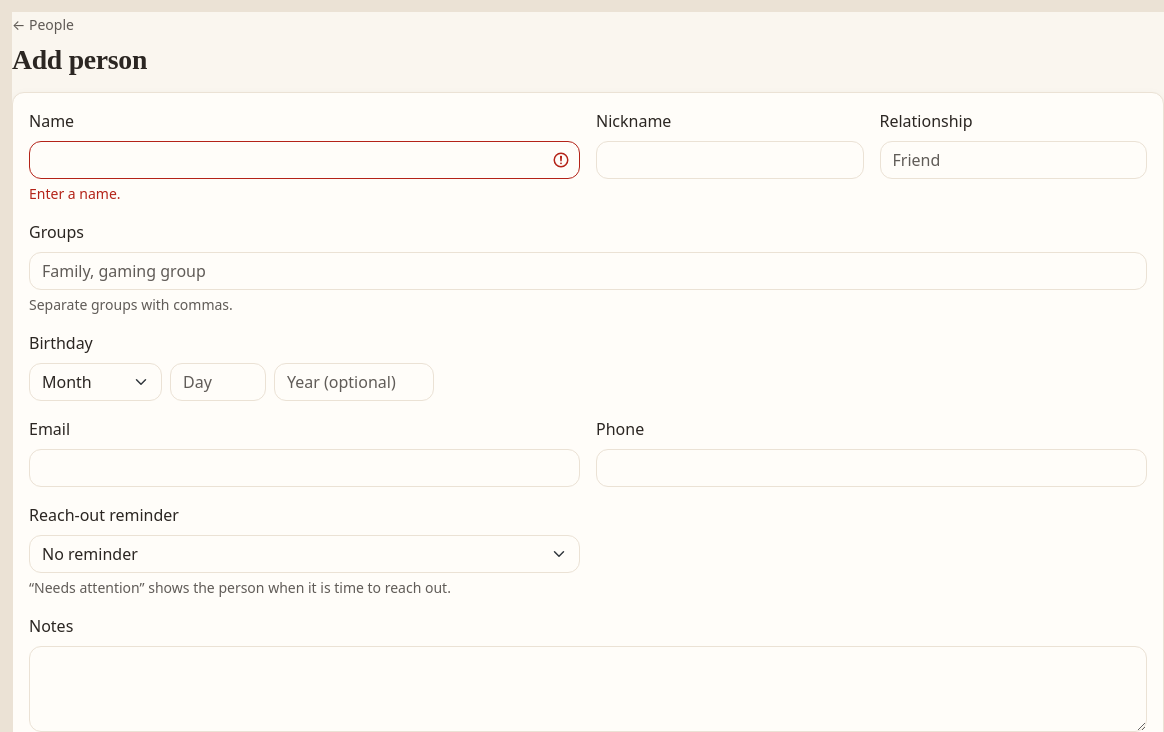
it: PersonNewComponent › sends nothing without a name, or with a day that the month does not have
The width and height of the screenshot is (1164, 732).
Type "Ana" into the field with class "is-invalid". click: (304, 160)
box: [29, 141, 580, 179]
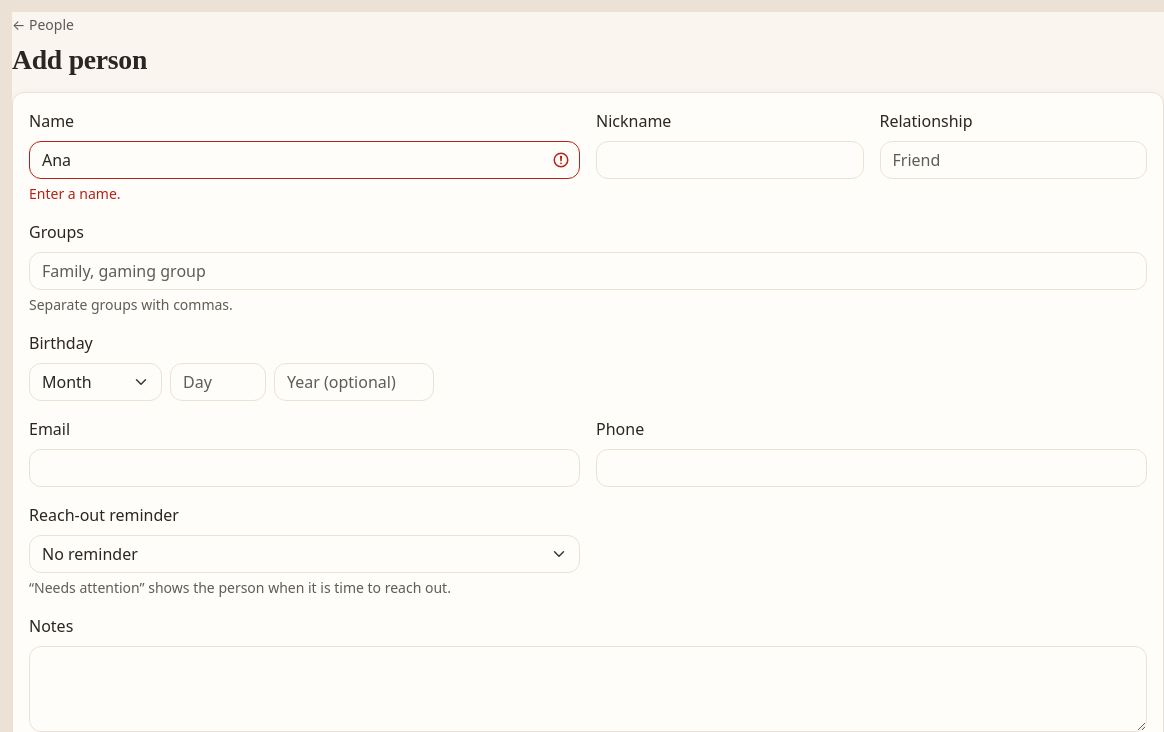
Select "February" in the 1st dropdown. click: (96, 382)
box: [29, 363, 162, 401]
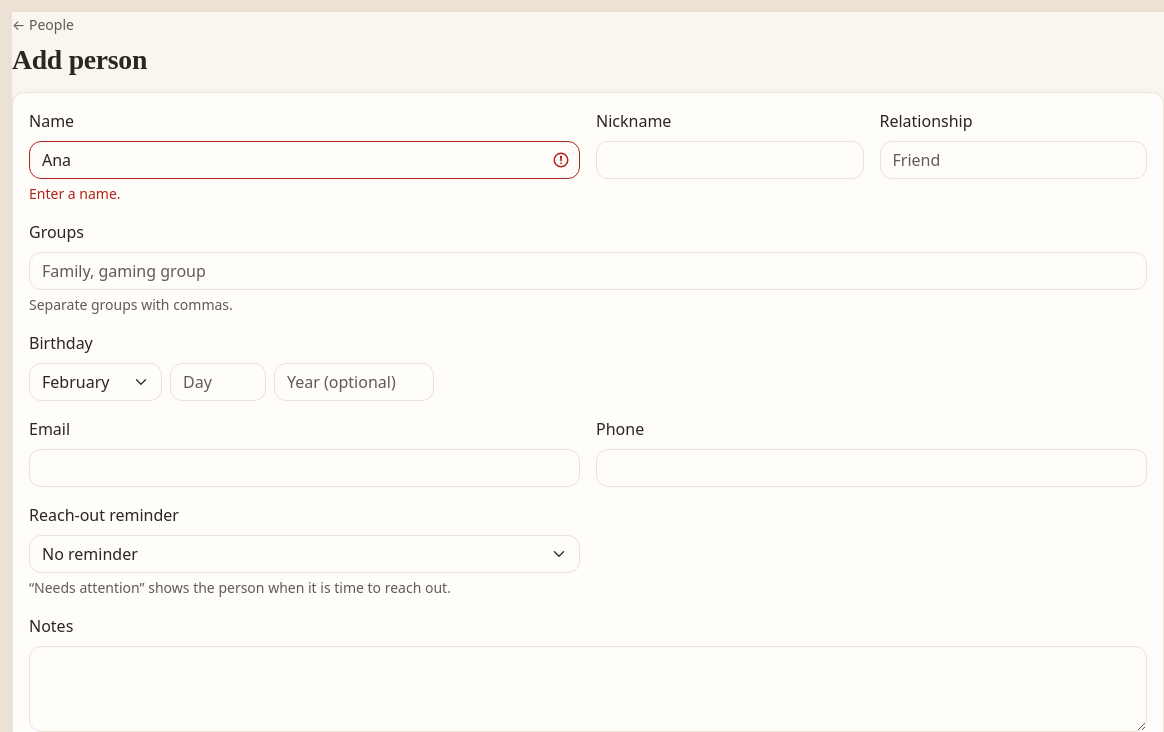
Type "30" into the number field with placeholder "Day". click: (218, 382)
box: [170, 363, 266, 401]
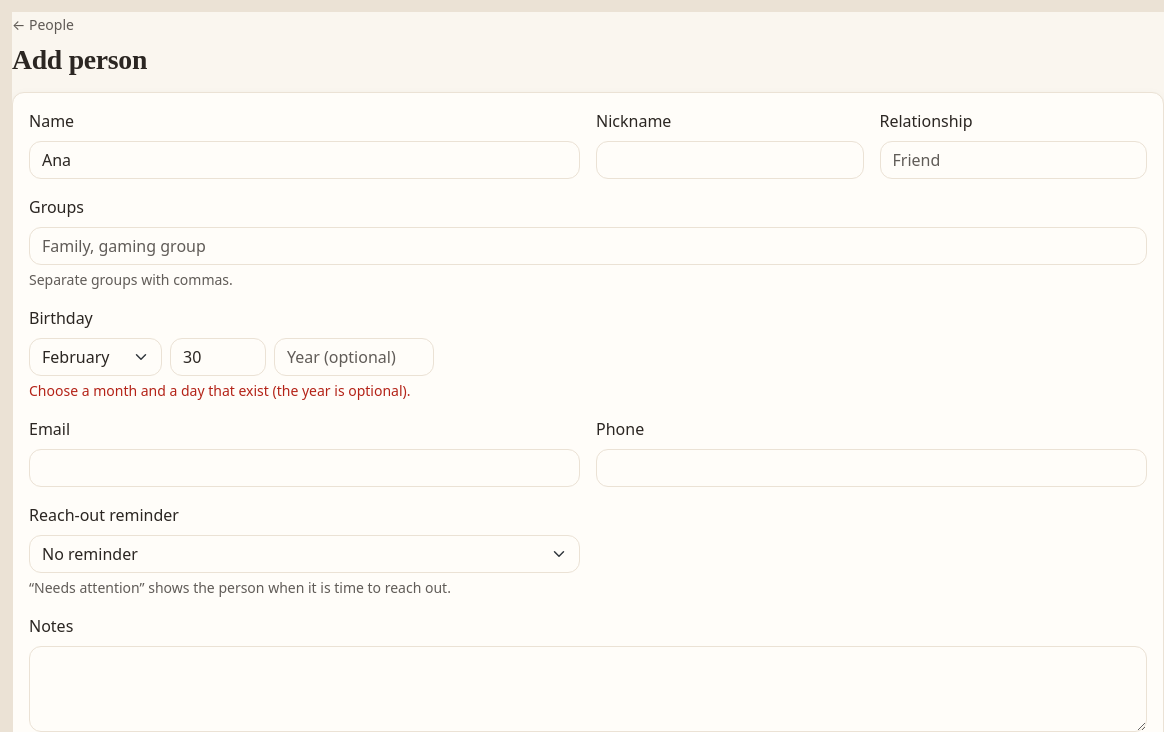
expect the text "Choose a month and a day that exist (the year is optional)." is shown: met, box [29, 381, 410, 400]
